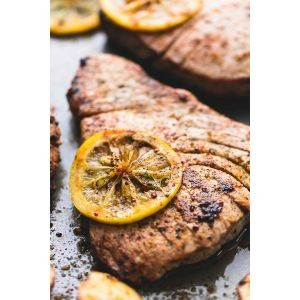tuna_brain food: (71, 28, 245, 279)
